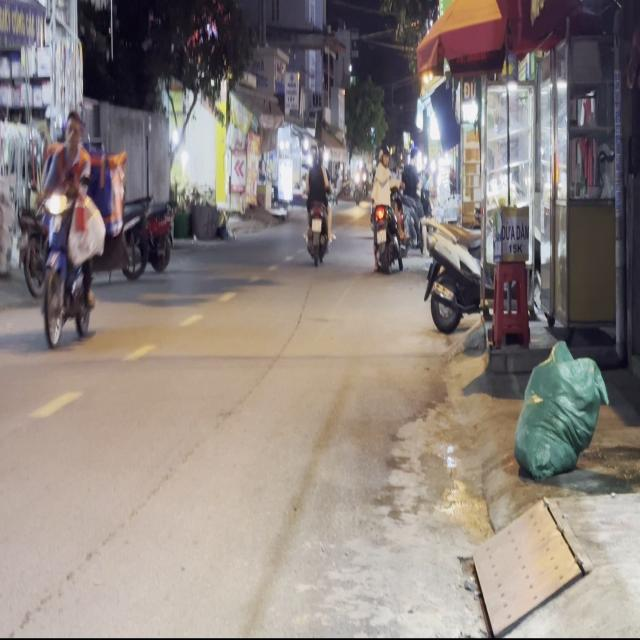helmet: (63, 108, 82, 147)
licenseplate: (35, 104, 106, 348)
